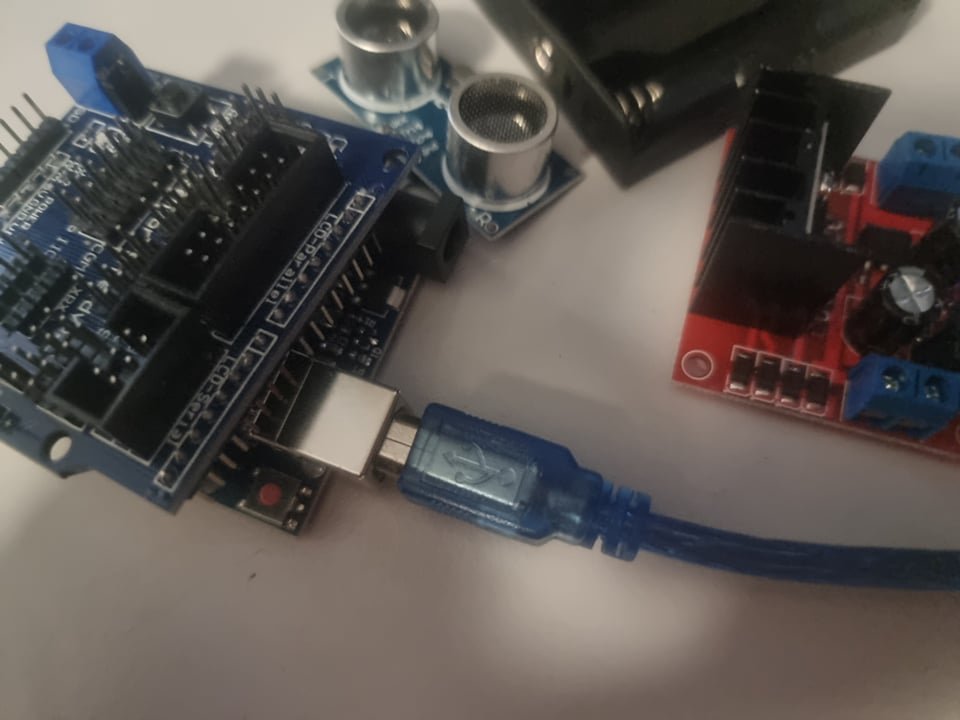5V EXPANSION: (1, 25, 422, 514)
MOTOR: (665, 64, 960, 456)
SENSOR: (312, 4, 584, 243)
UNO R3: (202, 196, 464, 547)
